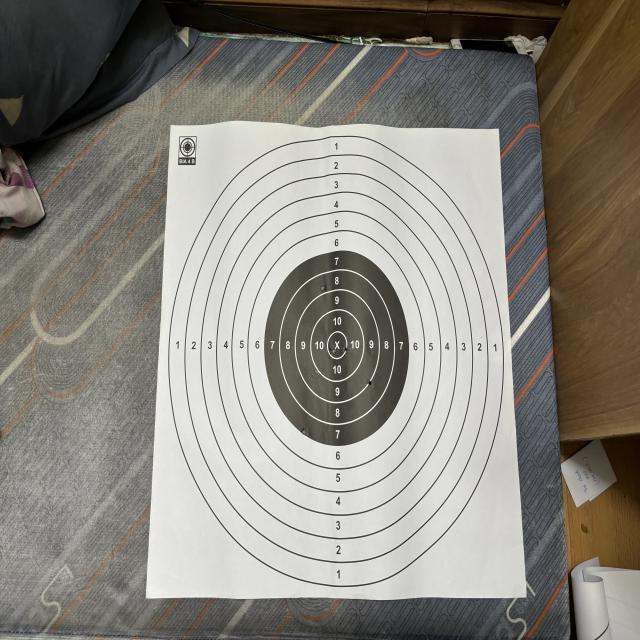bullet: (312, 365, 320, 376), (301, 427, 308, 437), (320, 283, 326, 292), (330, 348, 337, 355), (344, 346, 349, 352), (368, 379, 372, 386)
target: (146, 122, 526, 599)
